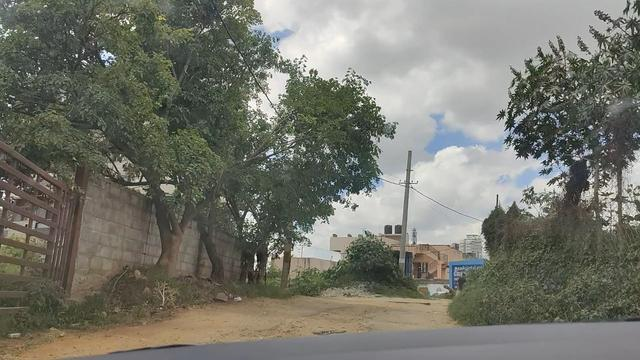RoadDamages: (261, 296, 402, 336)
